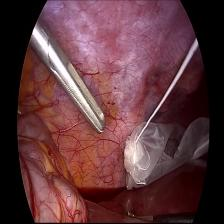Grasper: (124, 114, 210, 192)
